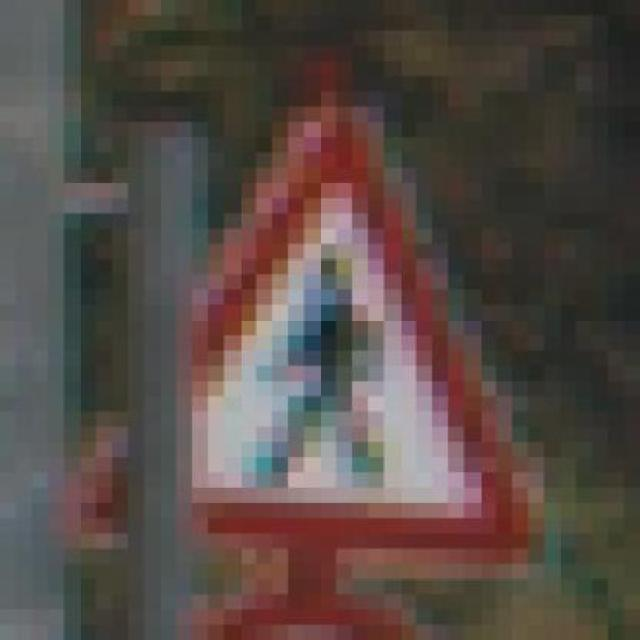Pedestrian Crossing: (83, 92, 531, 579)
